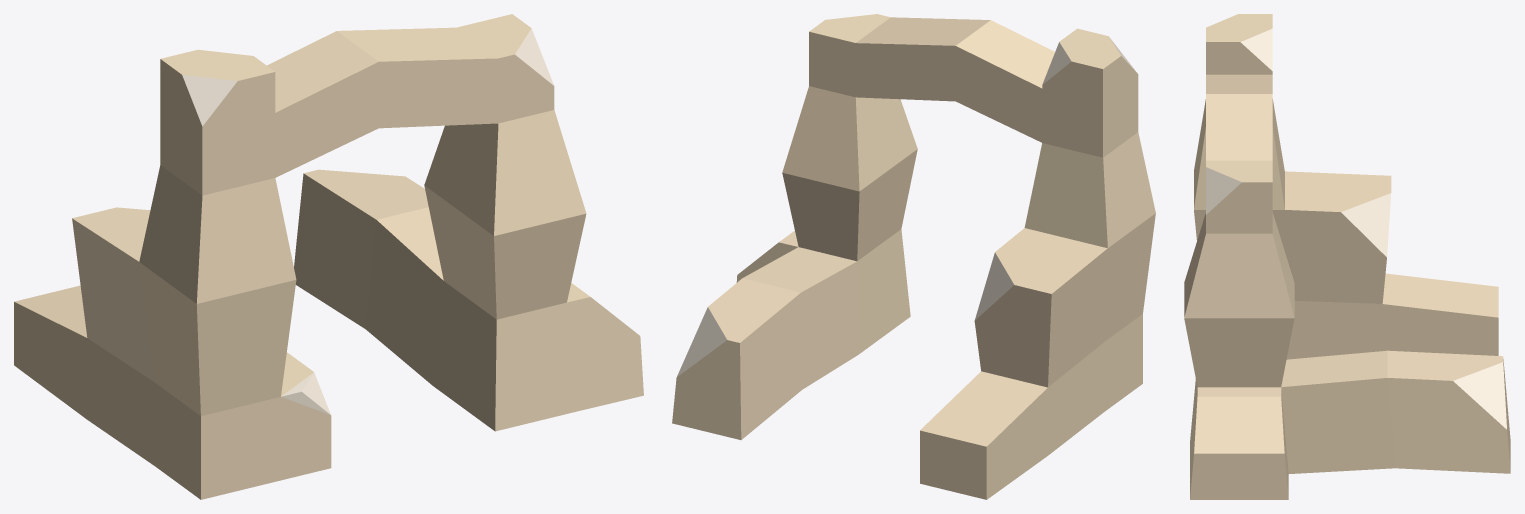
The model's file is ruin_5.fbx.
3 views of the same model, side by side, from view 1: azimuth 30°, elevation 25°; view 2: azimuth 150°, elevation 25°; view 3: azimuth 270°, elevation 25° (orthographic). The views are drawn at different scales.
Parts seen in each view (by area): view 1: ruin_5; view 2: ruin_5; view 3: ruin_5.
Part boxes in pixels (<box>): ruin_5: <box>14,14,643,499</box>; ruin_5: <box>672,14,1155,499</box>; ruin_5: <box>1184,14,1510,499</box>.
Size of the model in its own units: 296 by 261 by 238.
